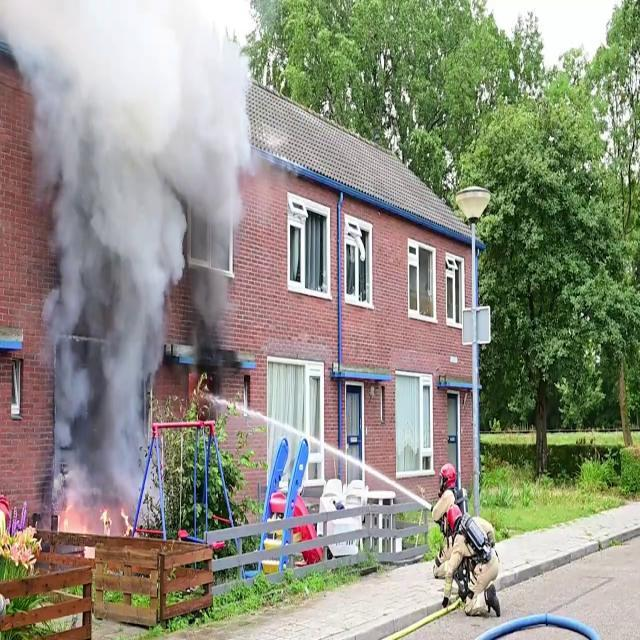Fire: (56, 498, 136, 544)
Smoke: (13, 0, 257, 503)
